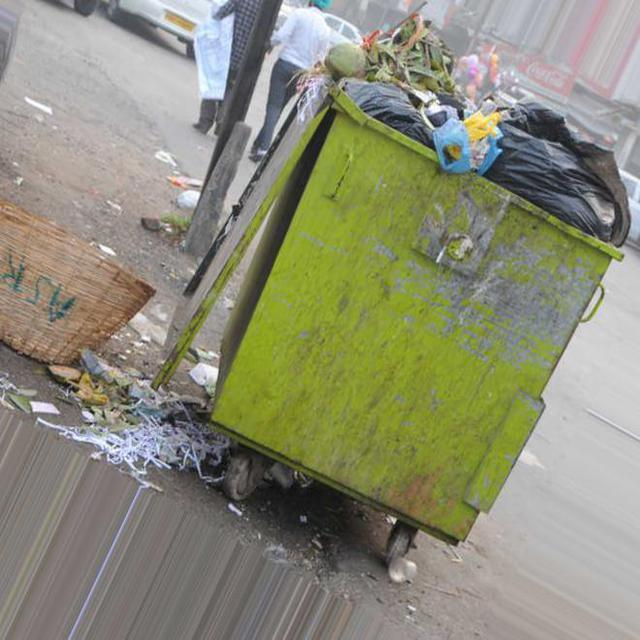garbage: (321, 0, 630, 237), (0, 185, 226, 495), (151, 145, 212, 186), (22, 90, 51, 119)
